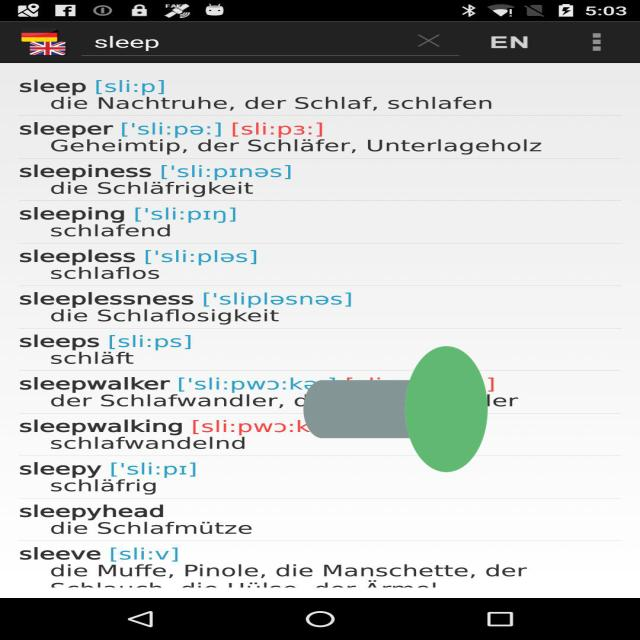social proof: (303, 268, 488, 550)
